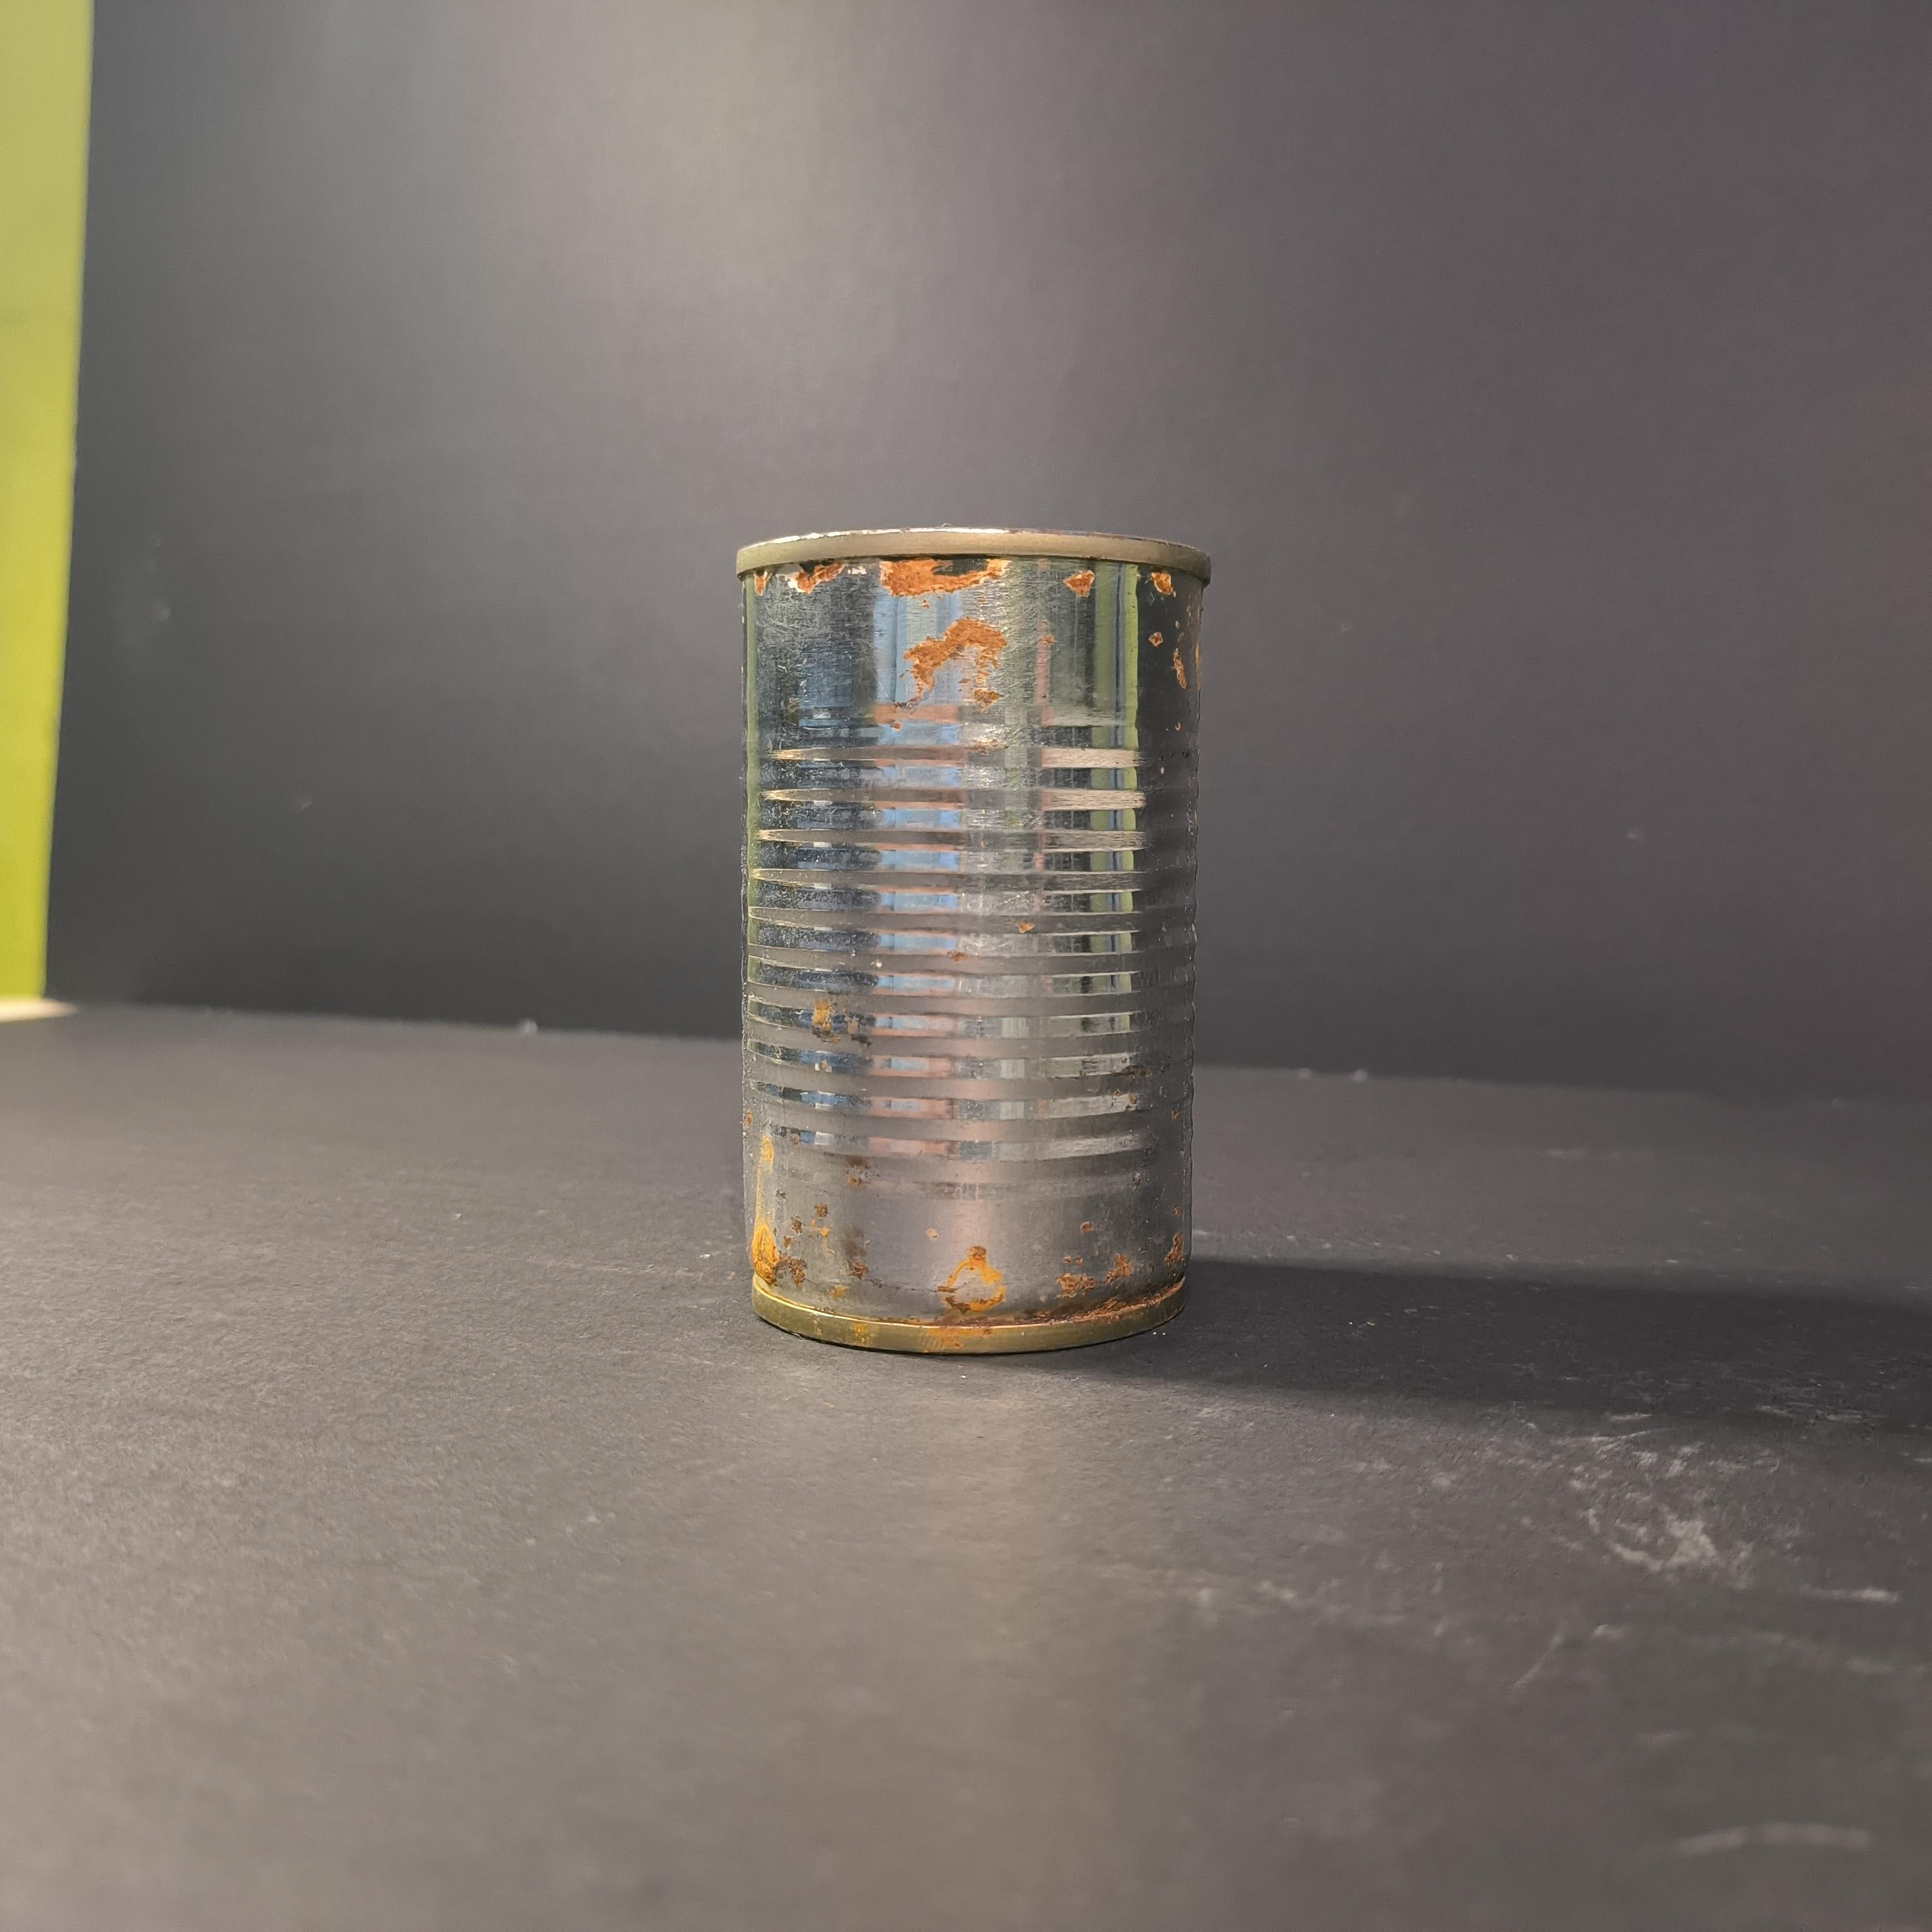Rusted: (720, 506, 1215, 1380)
